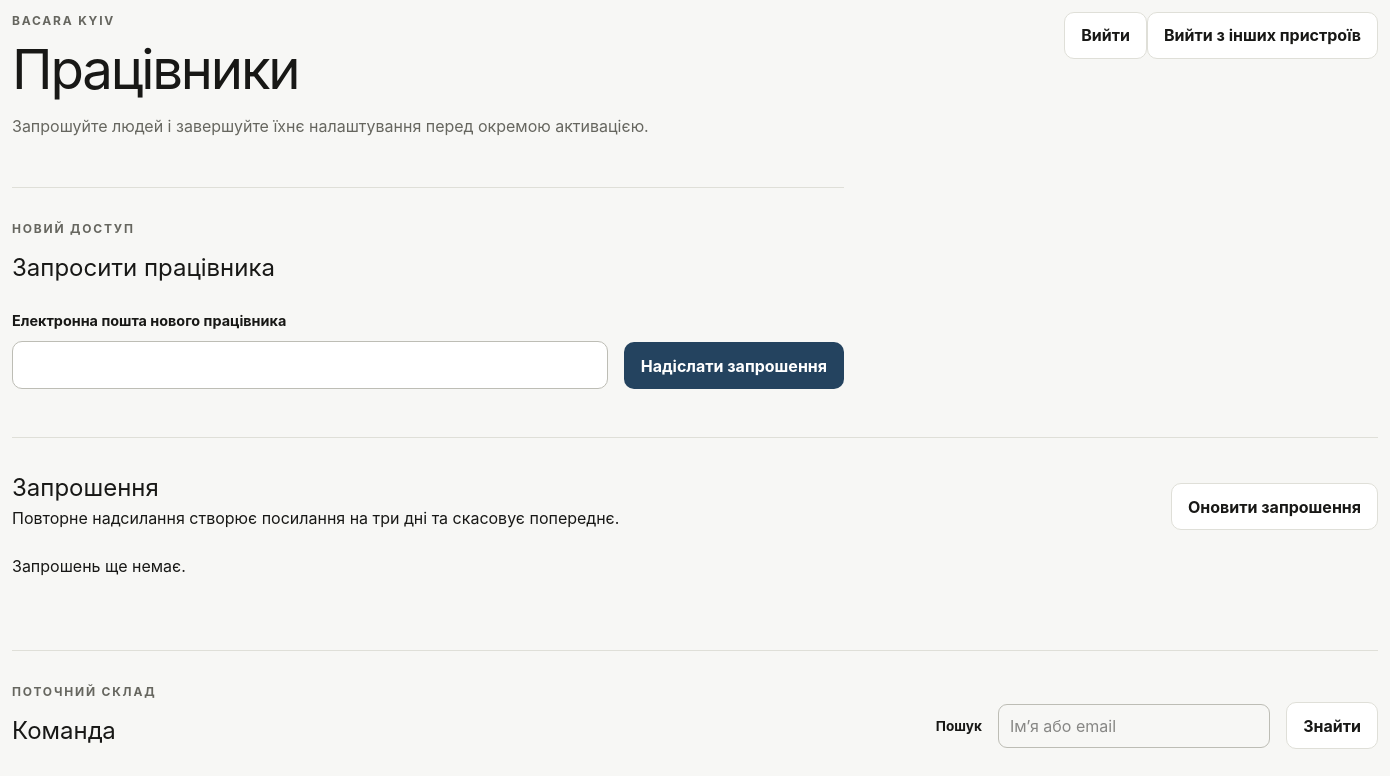
Test: Admin Employee flow › renders Employees as a semantic table and creates an invitation with protected headers
The width and height of the screenshot is (1390, 776).
In the field labelled "Електронна пошта нового працівника": (310, 365) [12, 341, 608, 389], type "new@example.com"
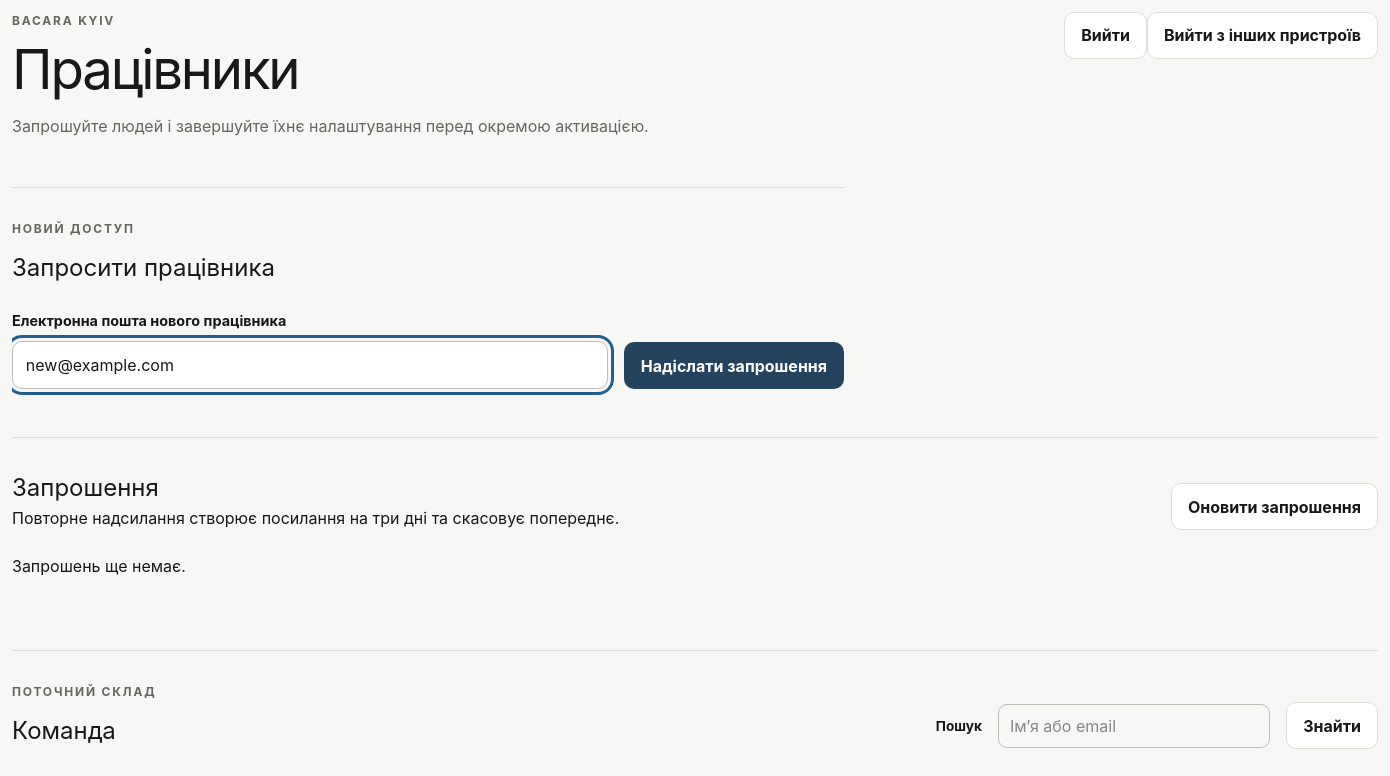
Click the button "Надіслати запрошення": (734, 366) [624, 342, 844, 389]
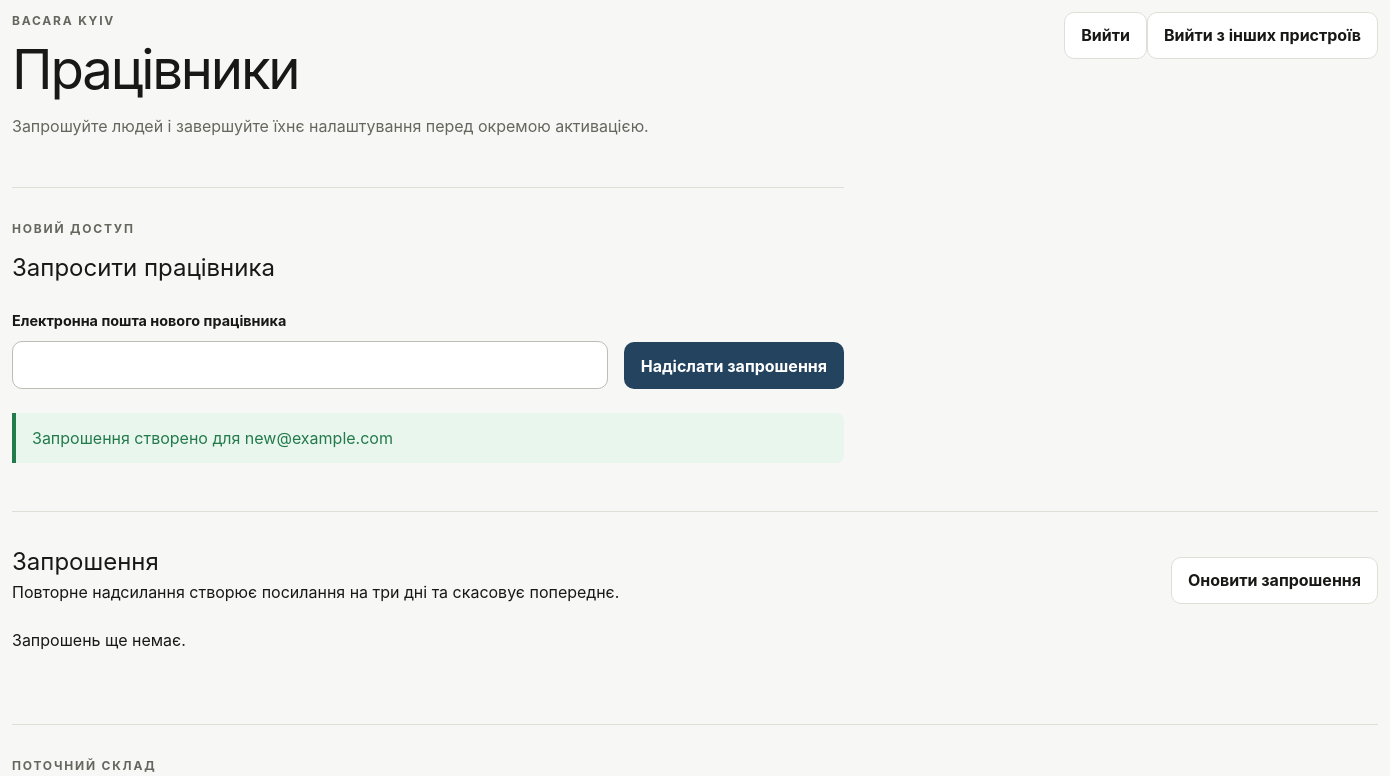
expect the text "Запрошення створено для new@example.com" is shown: met, box [12, 413, 844, 463]
